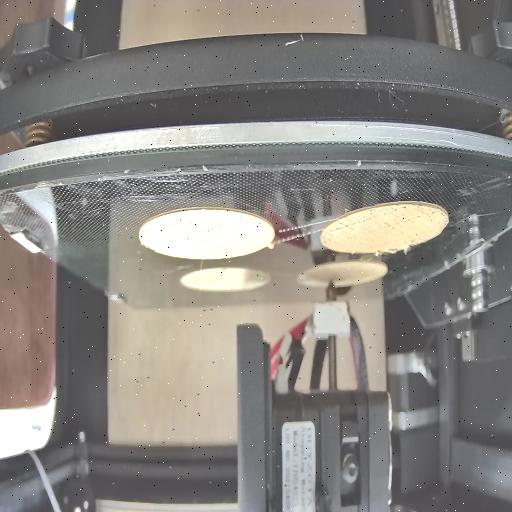under_extrusion: (162, 214, 222, 252), (381, 206, 434, 238), (330, 216, 368, 234), (241, 214, 263, 230)
